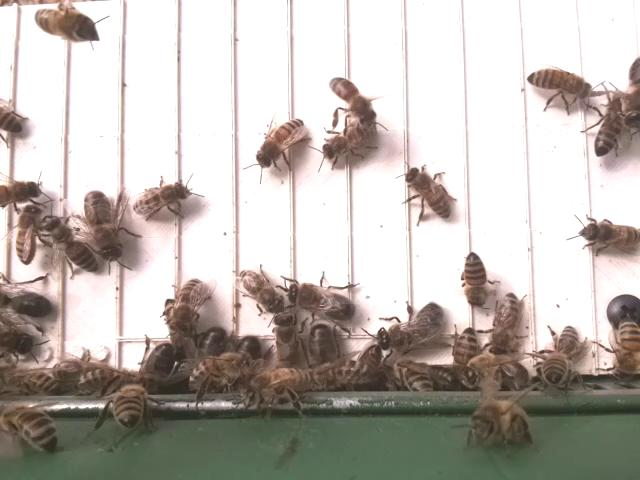Drone: (374, 299, 445, 355), (82, 185, 125, 264), (285, 279, 355, 326), (0, 286, 58, 323)
Worker: (45, 215, 100, 278), (251, 116, 307, 170), (402, 164, 450, 222), (130, 179, 192, 220), (524, 65, 592, 101), (33, 8, 99, 45), (590, 98, 628, 161), (166, 277, 207, 335), (318, 122, 380, 160), (327, 73, 374, 122), (237, 265, 282, 315), (487, 293, 521, 357), (579, 219, 640, 252), (460, 248, 489, 312), (14, 206, 43, 266)
